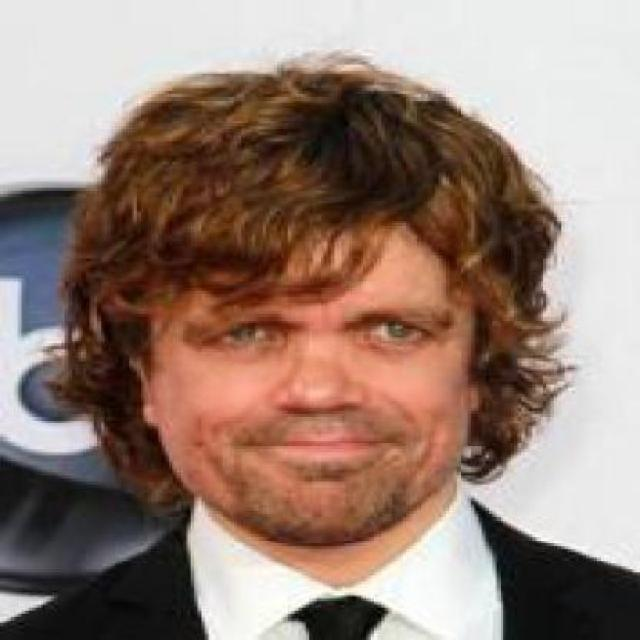closed-mouth: (253, 432, 393, 456)
